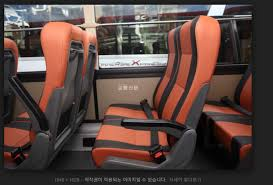seat: (107, 75, 186, 163)
